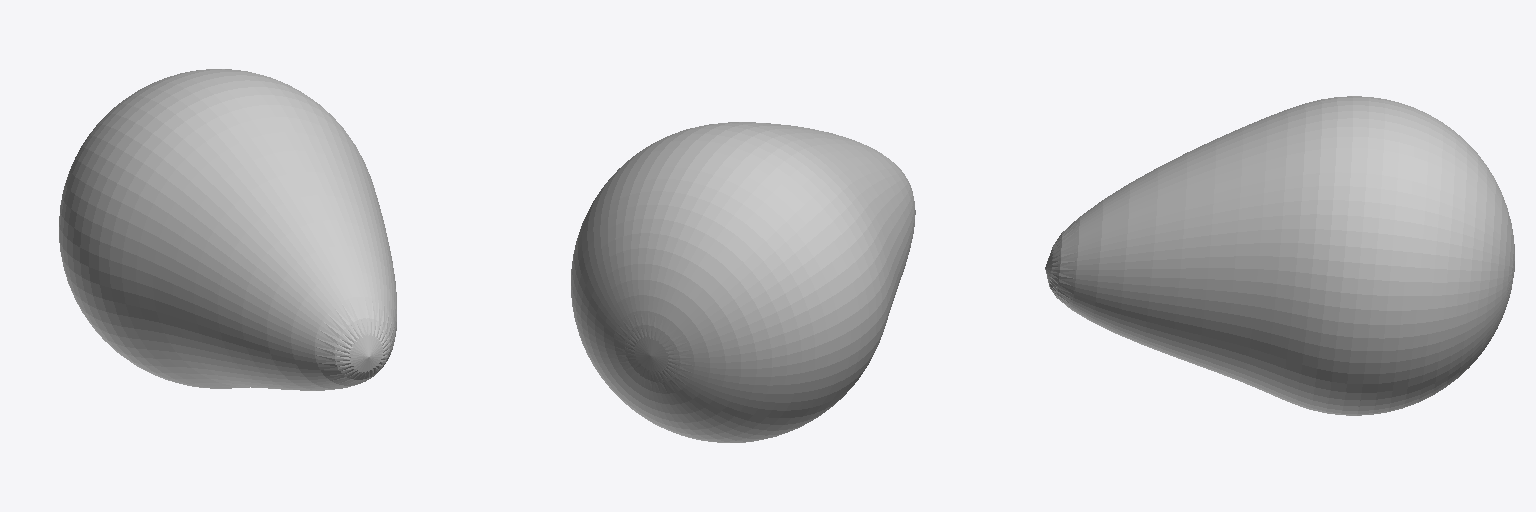
File: energy.obj
3 views of the same model, side by side, from view 1: azimuth 30°, elevation 25°; view 2: azimuth 150°, elevation 25°; view 3: azimuth 270°, elevation 25° (orthographic).
Visible parts, largest first — view 1: Sphere; view 2: Sphere; view 3: Sphere.
Part boxes in pixels (x1,y1,x2,y2): Sphere: (59,69,396,390); Sphere: (571,122,915,442); Sphere: (1045,96,1514,415).
Size of the model in its own units: 1.98 by 1.98 by 2.91.